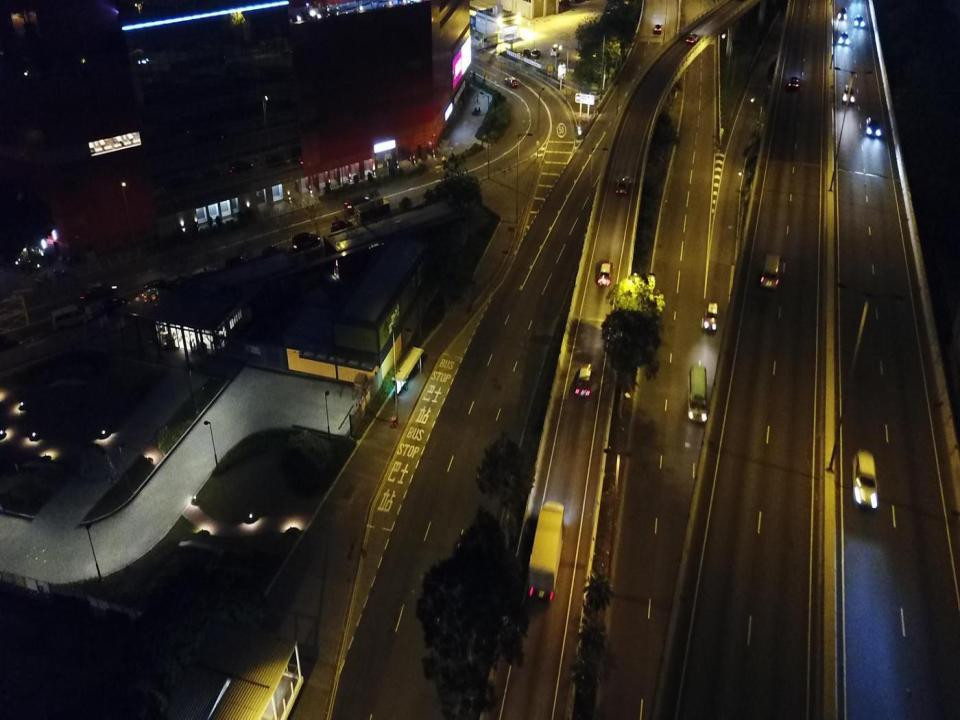bus: (686, 365, 708, 424)
car: (852, 448, 879, 513), (760, 251, 784, 290), (573, 361, 593, 399), (82, 284, 115, 302), (703, 298, 719, 332), (596, 260, 614, 288), (865, 115, 882, 141), (292, 234, 320, 248), (615, 176, 632, 197), (330, 220, 354, 234), (193, 266, 218, 279), (144, 279, 169, 292), (262, 245, 286, 258), (226, 257, 250, 270), (103, 299, 127, 312), (842, 82, 855, 104), (785, 75, 800, 93), (686, 32, 699, 46), (838, 31, 850, 45), (504, 77, 518, 87), (854, 15, 864, 28), (838, 6, 847, 20), (531, 49, 540, 60), (653, 24, 662, 34)
truck: (526, 501, 565, 603), (354, 197, 396, 225)
van: (51, 305, 92, 332), (344, 195, 373, 213), (550, 44, 559, 56), (523, 50, 531, 57)
